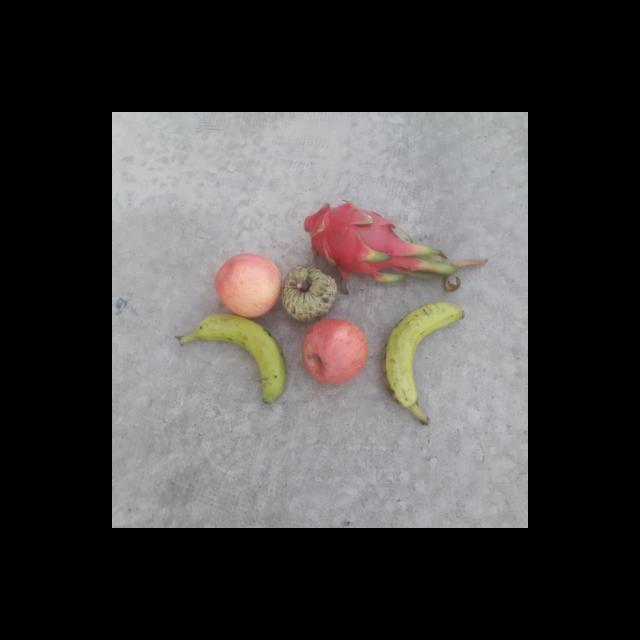Sakya fruit: (280, 266, 339, 320)
apple: (209, 249, 280, 319), (299, 316, 370, 383)
banana: (176, 312, 290, 404), (384, 300, 465, 422)
pitaya: (302, 207, 403, 276)
